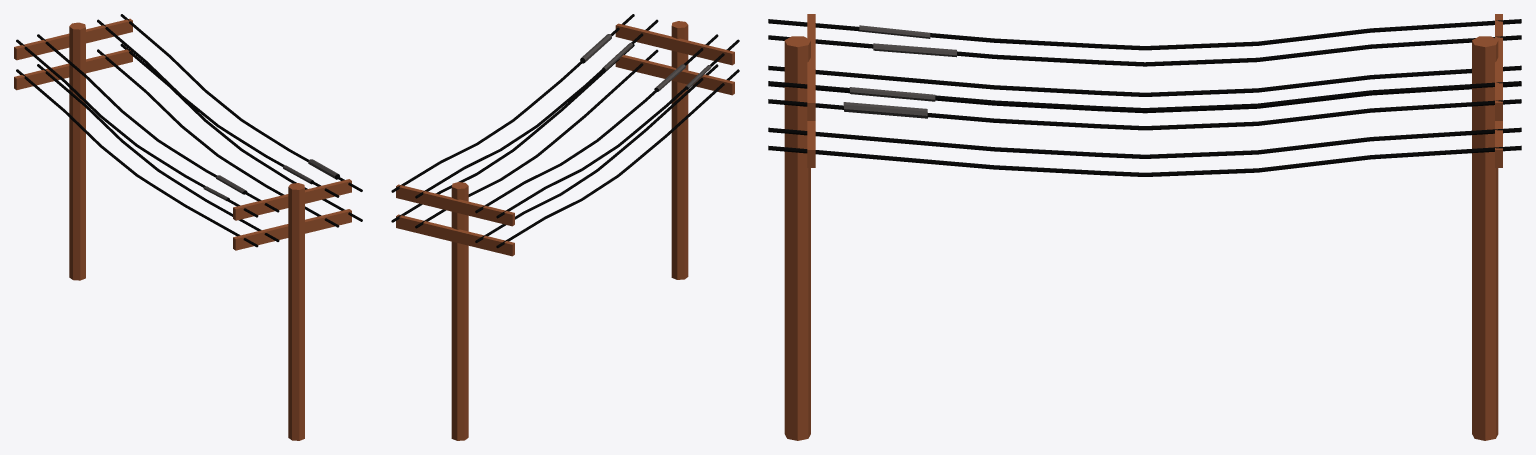
The model's file is Power_Lines.fbx.
The picture shows the model from 3 angles, left to right: view 1: azimuth 30°, elevation 25°; view 2: azimuth 150°, elevation 25°; view 3: azimuth 270°, elevation 25°; orthographic projection. The views are drawn at different scales.
Visible parts, largest first — view 1: Power_Lines; view 2: Power_Lines; view 3: Power_Lines.
Part boxes in pixels (bbox=[...]): Power_Lines: bbox=[14, 14, 362, 440]; Power_Lines: bbox=[391, 14, 739, 440]; Power_Lines: bbox=[768, 14, 1521, 440].
Bounding box in the file's own units: 25.9 × 53.43 × 92.65.
